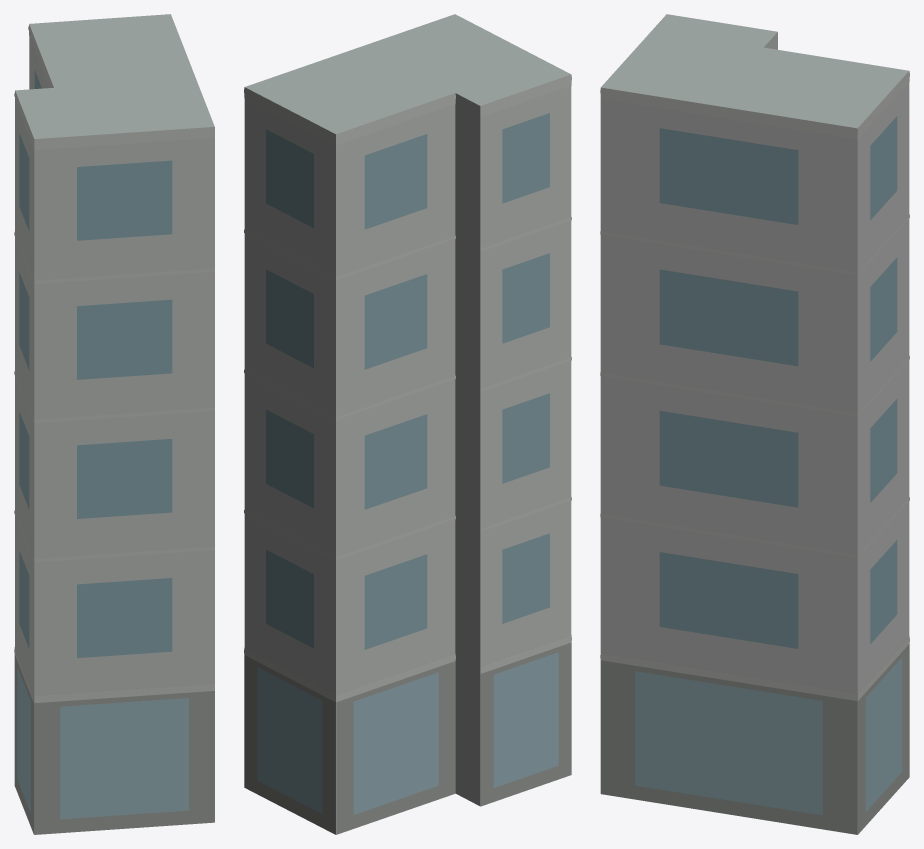
The model's file is survey-upis-32907034.glb.
3 views of the same model, side by side, from view 1: azimuth 30°, elevation 25°; view 2: azimuth 150°, elevation 25°; view 3: azimuth 270°, elevation 25° (orthographic).
Visible parts, largest first — view 1: survey-upis-32907034.tmp; view 2: survey-upis-32907034.tmp; view 3: survey-upis-32907034.tmp.
Part boxes in pixels (left/top/right/bottom): survey-upis-32907034.tmp: left=14, top=14, right=214, bottom=834; survey-upis-32907034.tmp: left=244, top=14, right=571, bottom=834; survey-upis-32907034.tmp: left=600, top=14, right=909, bottom=834.
Size of the model in its own units: 5.32 by 15.25 by 6.06.
